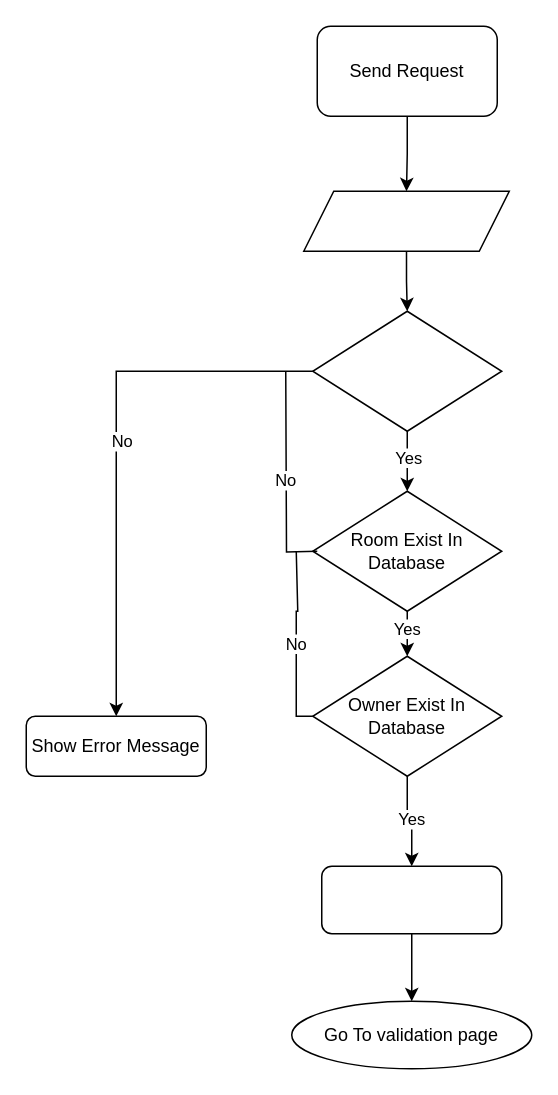
The diagram is 558 pixels wide and 1095 high, and some of its shapes have lost their labels. Here are the shapes that lost their labels. From the top down, the box of each, then its label:
(302, 190, 509, 251): Get Reservation Info
(311, 310, 502, 431): Client Exist In Database
(320, 865, 502, 934): Create Reservation
